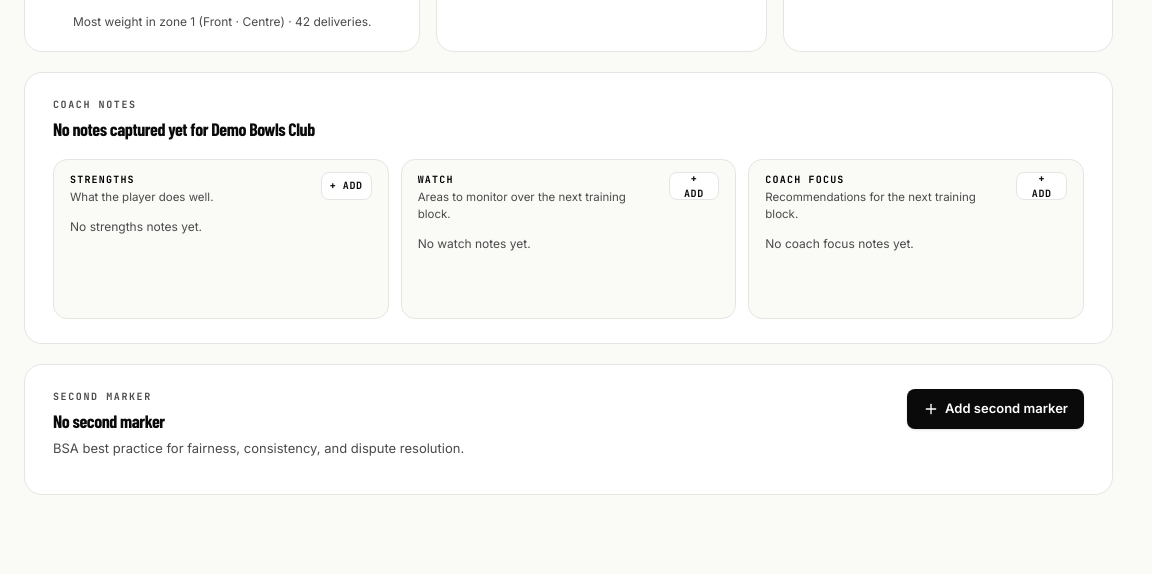
Test case: <AssessmentResults /> — second marker section › submit button is disabled until name + accred (regex-valid) are filled
(page scrolled)
Click the button "Add second marker".
click(996, 409)  # box [907,389,1084,429]
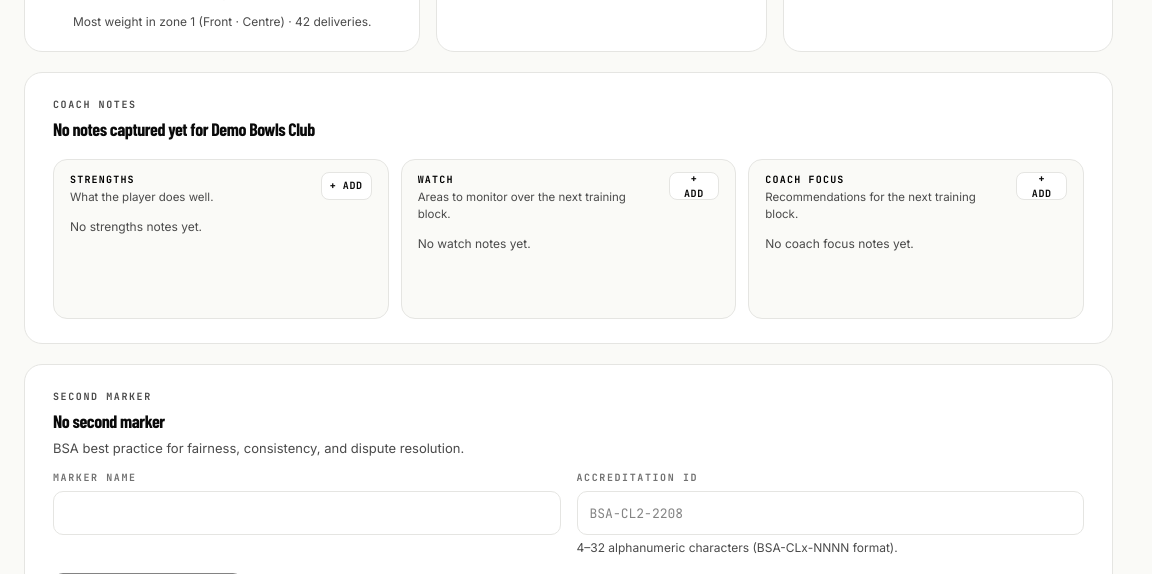
Type "Bongani" into the field labelled "Marker name".
click(307, 513); type("Bongani")  # box [53,491,560,535]
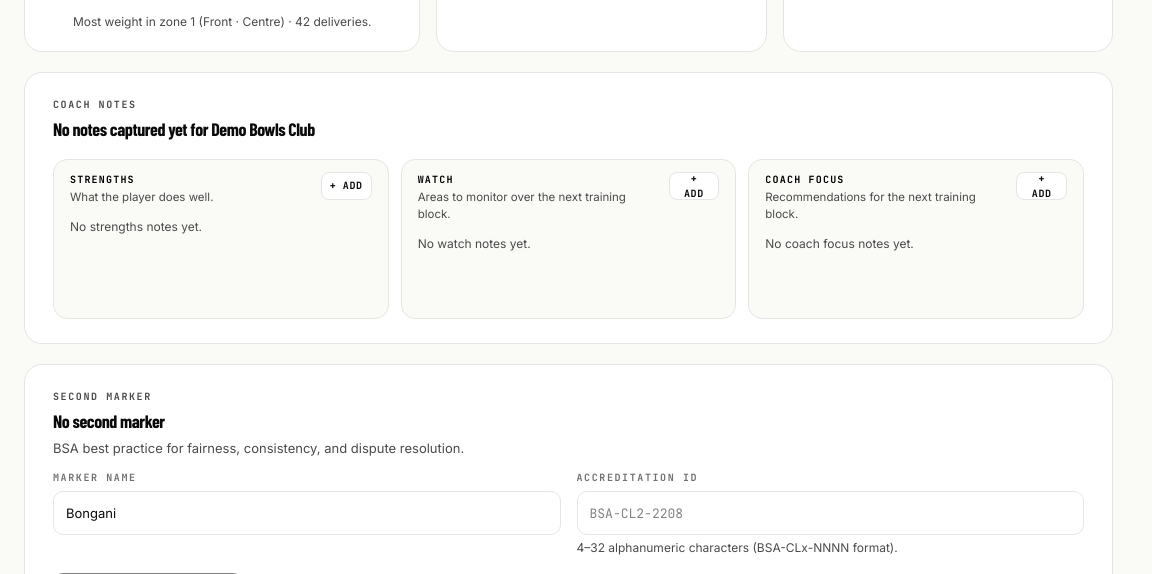
Type "abc" into the field labelled "Accreditation ID".
click(830, 513); type("abc")  # box [576,491,1084,535]
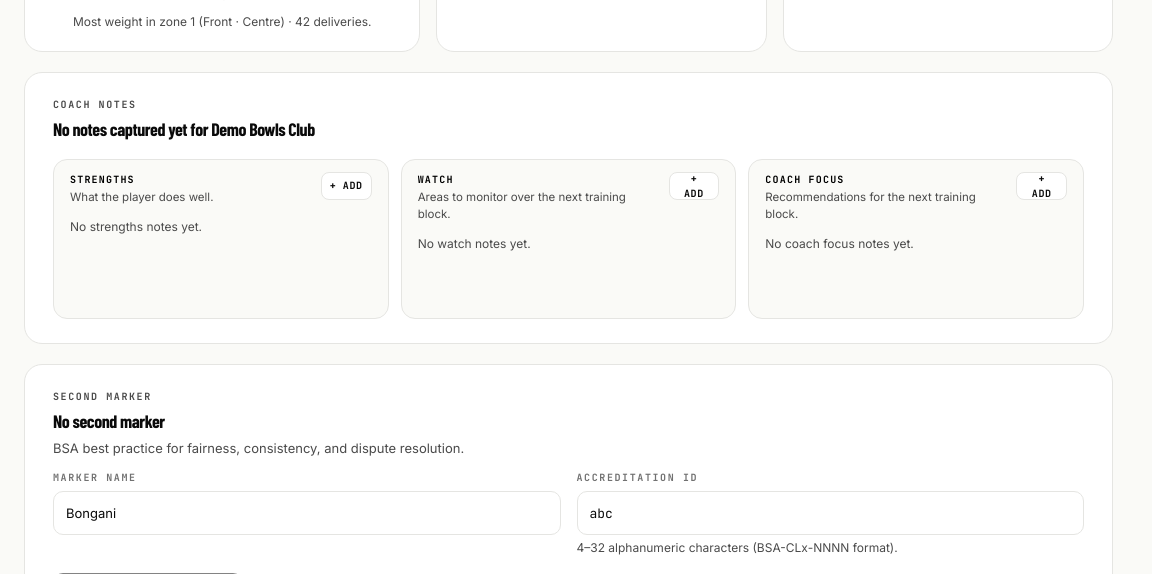
Replace the text in the field labelled "Accreditation ID" with "BSA-CL1-3098" at (830, 513), box [576,491,1084,535]
(page scrolled)
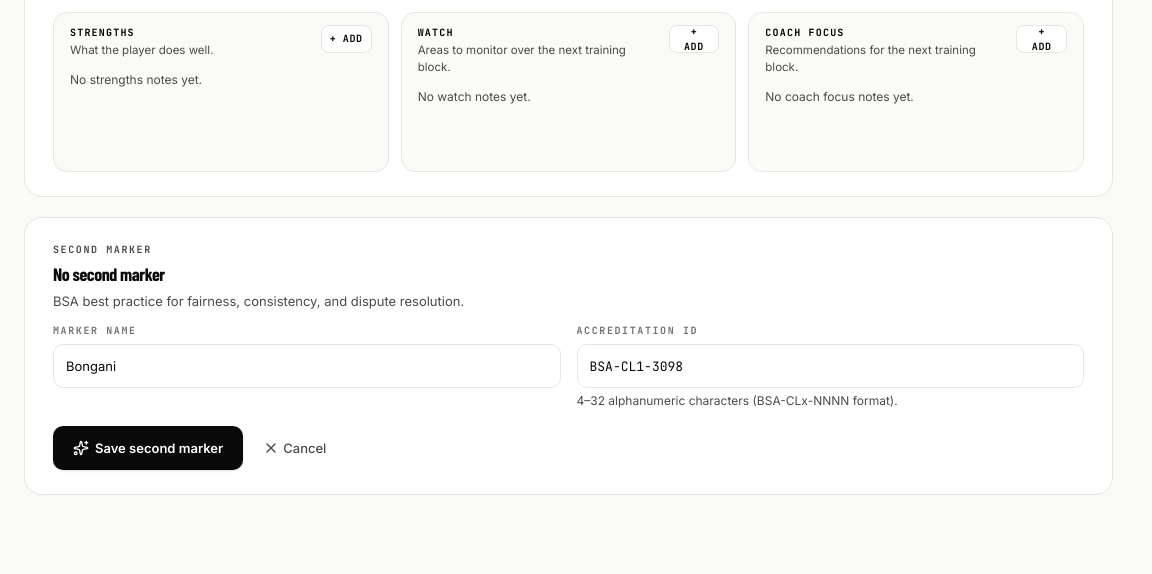
Result: the button "Save second marker" is enabled at [53,426,243,470]
